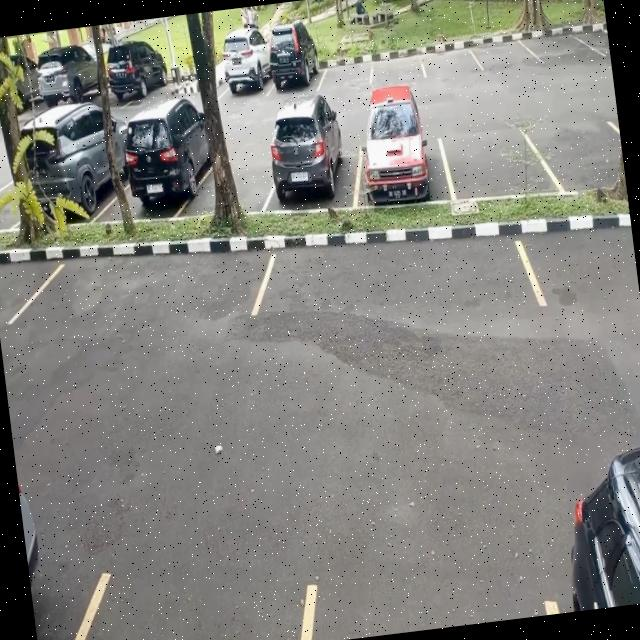empty: (288, 487, 562, 640), (259, 218, 540, 346), (48, 521, 321, 640), (18, 235, 266, 346), (441, 120, 548, 204), (537, 115, 626, 196), (527, 18, 592, 66), (419, 36, 479, 80), (474, 28, 531, 72), (367, 45, 426, 85), (319, 49, 373, 92)
occupied: (116, 103, 212, 226), (351, 99, 451, 209), (262, 108, 362, 215), (214, 26, 272, 102), (262, 32, 324, 98)
